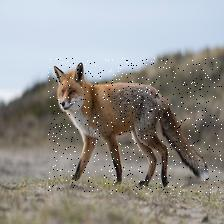fox: (48, 59, 222, 195)
